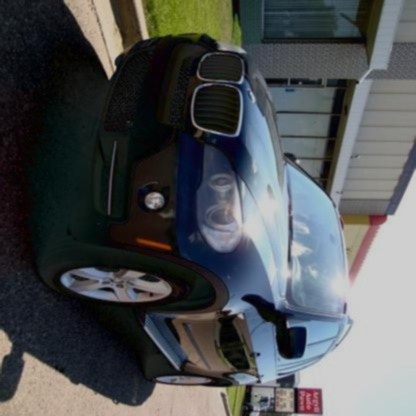Vehicle: (41, 48, 416, 282)
